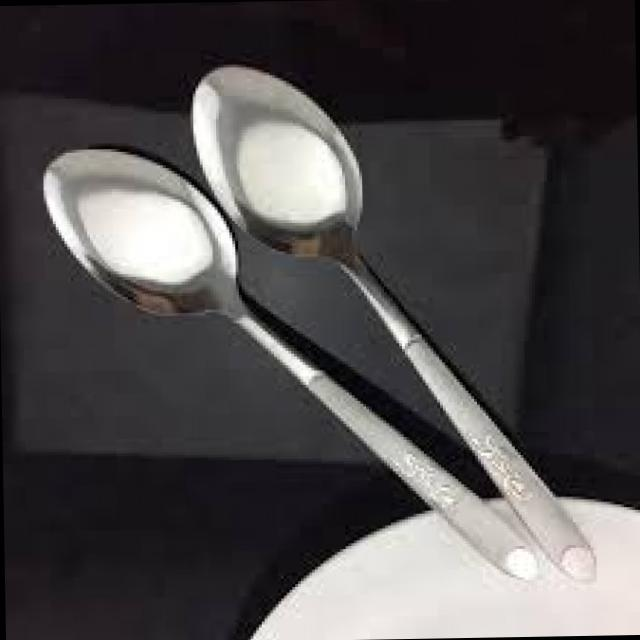spoon: (191, 51, 640, 531)
